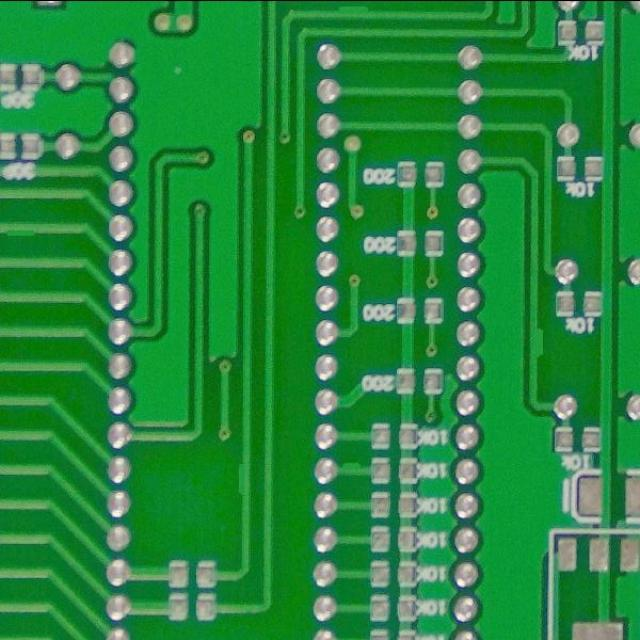spur: (524, 323, 550, 363), (329, 1, 372, 25), (229, 460, 251, 500), (1, 221, 36, 243), (336, 457, 361, 478)
